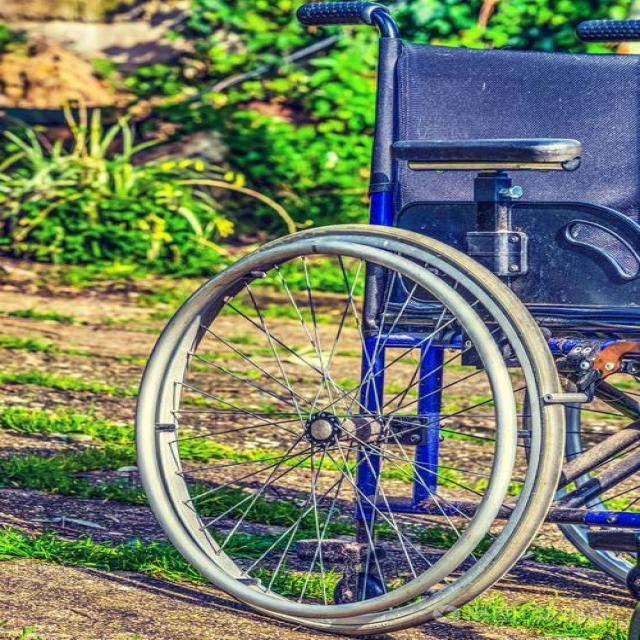wheelchairs: (131, 0, 640, 640)
